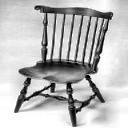chair_success: (11, 3, 116, 127)
